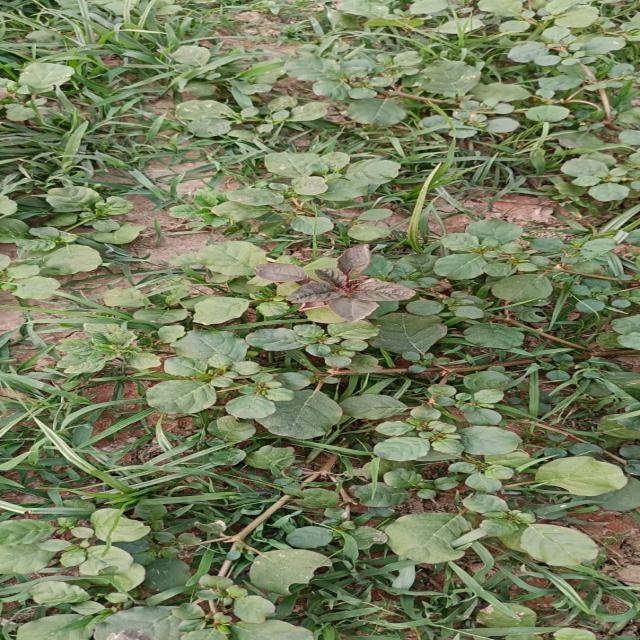plant: (286, 245, 415, 323), (255, 262, 309, 282)
